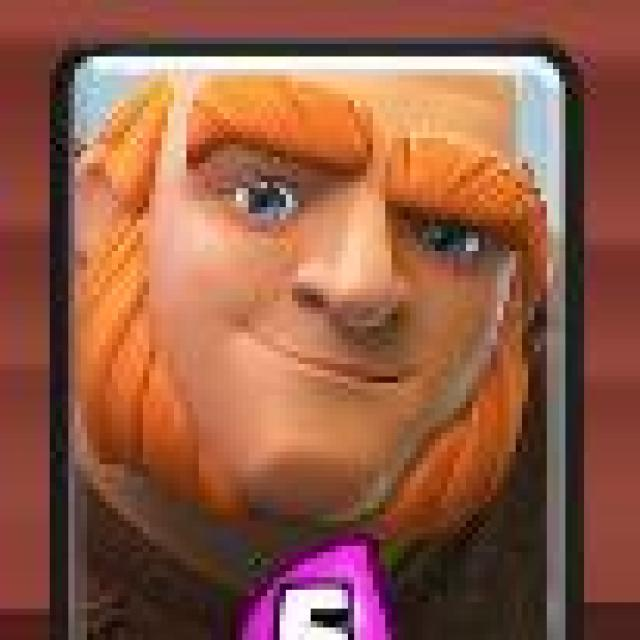Giant: (51, 42, 589, 640)
